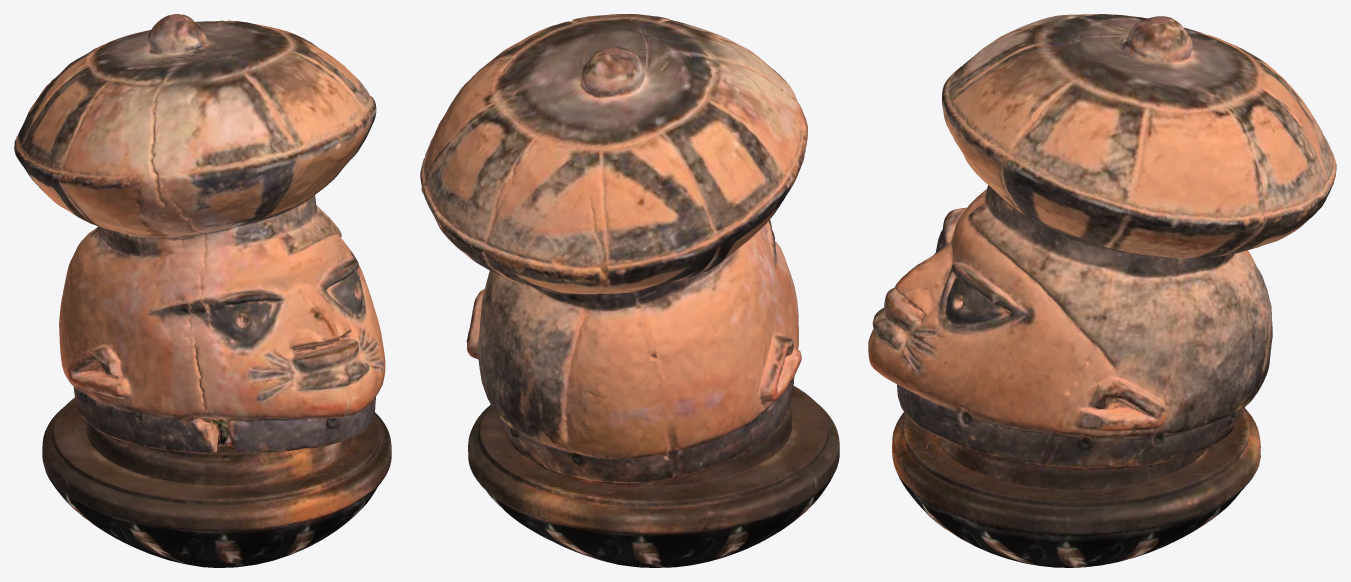
File: preview.glb
3 views of the same model, side by side, from view 1: azimuth 30°, elevation 25°; view 2: azimuth 150°, elevation 25°; view 3: azimuth 270°, elevation 25° (orthographic). The views are drawn at different scales.
Visible parts, largest first — view 1: Object_2; view 2: Object_2; view 3: Object_2.
Part boxes in pixels (bbox=[...]): Object_2: bbox=[14, 14, 391, 567]; Object_2: bbox=[420, 14, 839, 567]; Object_2: bbox=[868, 14, 1336, 567].
Size of the model in its own units: 226 by 343 by 275.
Materials: 1 (1 with a texture image).
